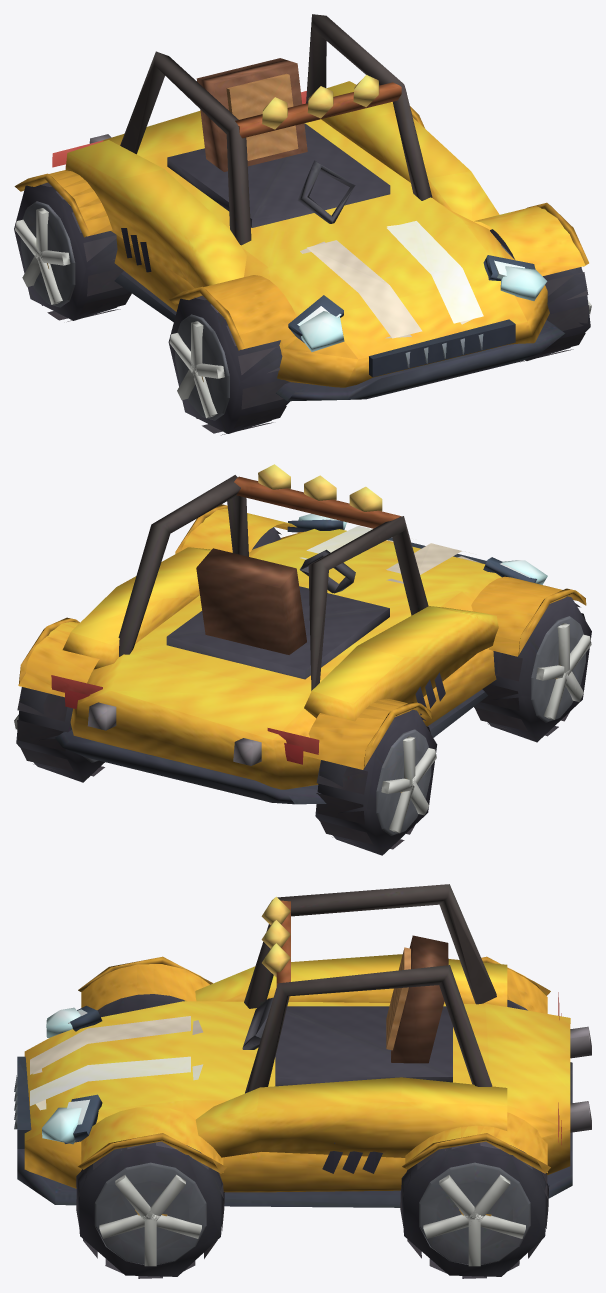
Rendered from kart_dune.glb.
The picture shows the model from 3 angles, top to bottom: view 1: azimuth 30°, elevation 25°; view 2: azimuth 150°, elevation 25°; view 3: azimuth 270°, elevation 25°; orthographic projection. The views are drawn at different scales.
Visible parts, largest first — view 1: Body, Wheel_L_Front, Wheel_L_Back, Wheel_R_Front; view 2: Body, Wheel_L_Back, Wheel_L_Front, Wheel_R_Back; view 3: Body, Wheel_R_Front, Wheel_R_Back, Wheel_L_Front.
Part boxes in pixels (x1,y1,x2,y2): Body: (14, 14, 588, 401); Wheel_L_Front: (168, 295, 289, 435); Wheel_L_Back: (14, 182, 131, 321); Wheel_R_Front: (490, 229, 591, 362); Body: (18, 464, 586, 804); Wheel_L_Back: (315, 709, 437, 855); Wheel_L_Front: (474, 596, 591, 742); Wheel_R_Back: (14, 687, 104, 782); Body: (14, 884, 591, 1207); Wheel_R_Front: (76, 1141, 224, 1278); Wheel_R_Back: (400, 1141, 549, 1278); Wheel_L_Front: (97, 994, 184, 1016).
Size of the model in its own units: 1.8 by 1.19 by 2.3.
1 material, 1 textured.
